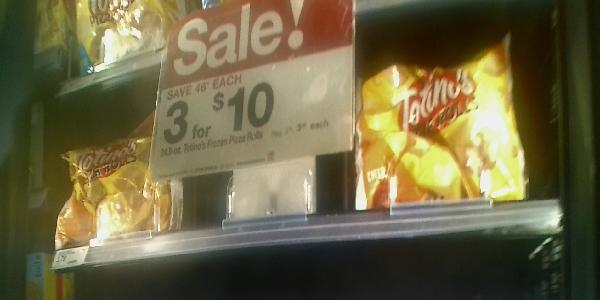icecream: (359, 55, 530, 203), (60, 137, 174, 251)
